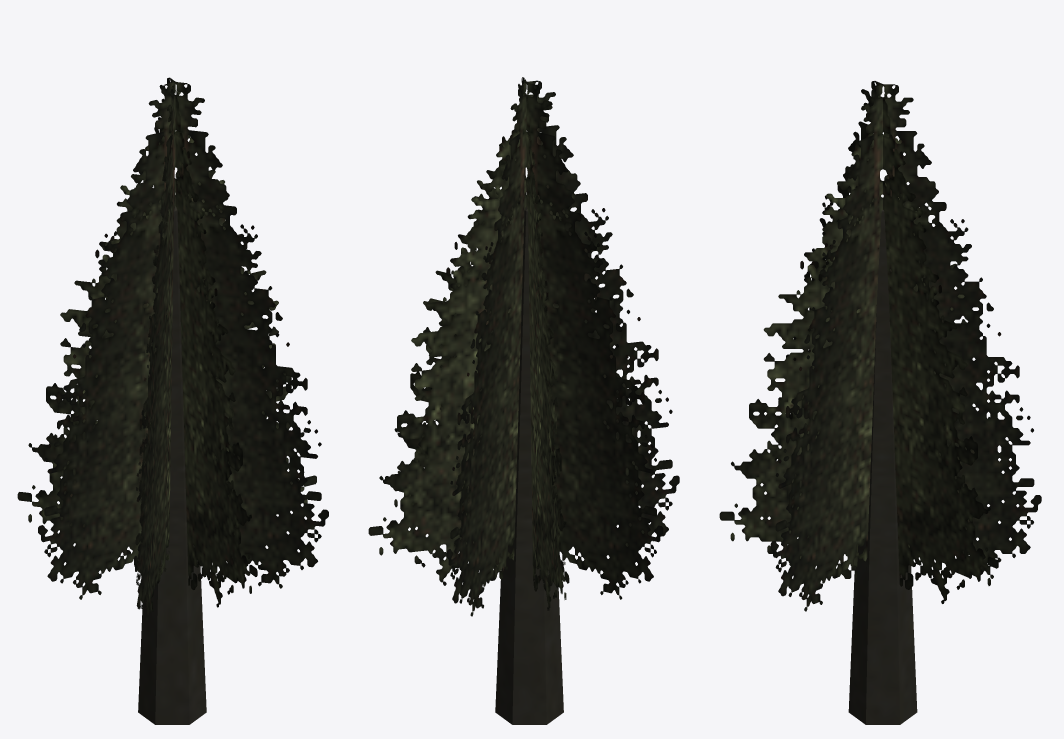
File: tree05.glb
3 views of the same model, side by side, from view 1: azimuth 30°, elevation 25°; view 2: azimuth 150°, elevation 25°; view 3: azimuth 270°, elevation 25° (orthographic).
Parts seen in each view (by area): view 1: tree05; view 2: tree05; view 3: tree05.
Boxes of the visible parts, x1,y1,x2,y2 form: tree05: (17,77,328,724); tree05: (368,77,679,724); tree05: (719,81,1041,724).
Size of the model in its own units: 6 by 12.5 by 6.
1 material, 1 textured.
